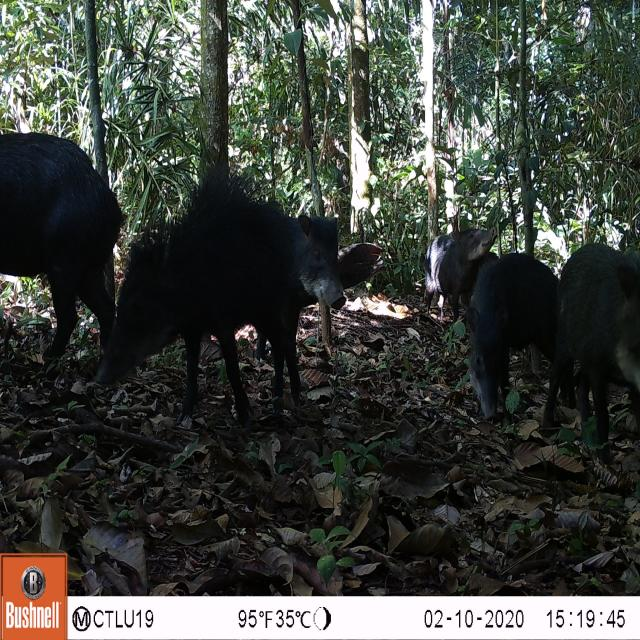White-lipped Peccary: (103, 168, 346, 425), (1, 116, 120, 372), (455, 246, 565, 434), (556, 227, 640, 451), (409, 207, 498, 302)
